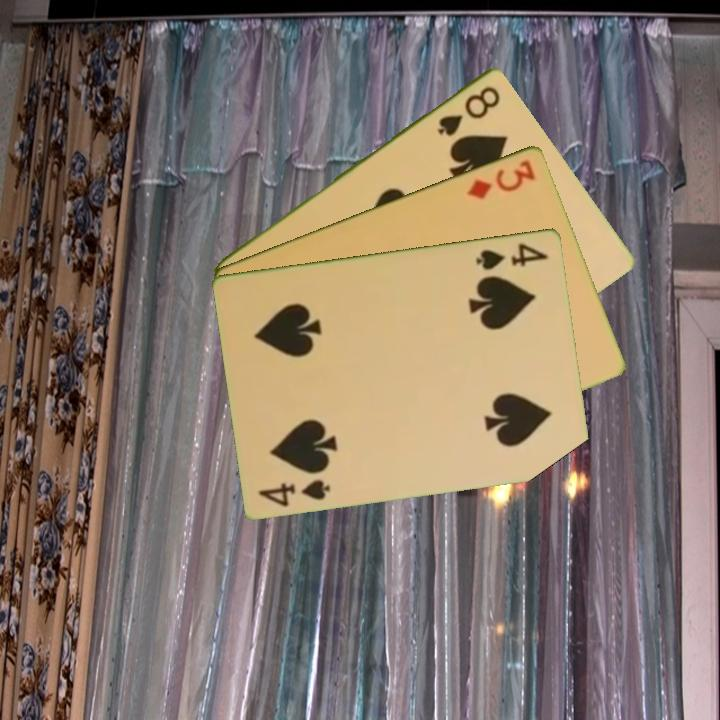3d: (462, 156, 538, 202)
4s: (472, 239, 551, 273), (255, 475, 334, 509)
8s: (433, 82, 503, 139)
